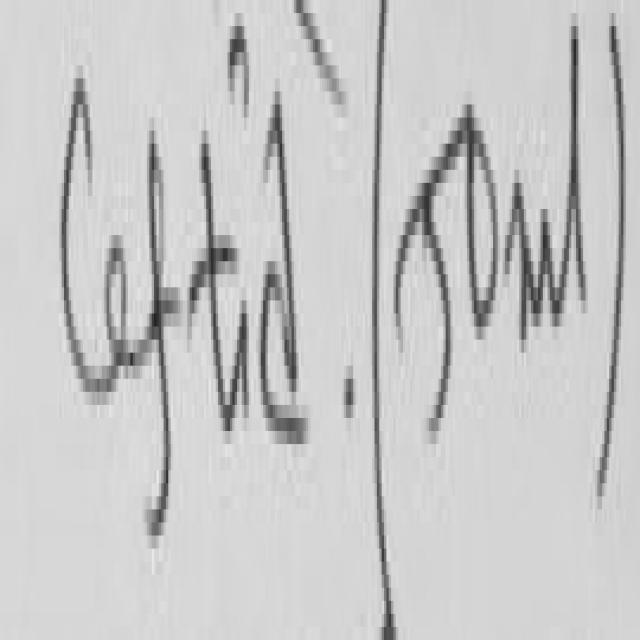0: (469, 104, 500, 327)
5: (397, 104, 460, 472)
C: (62, 78, 114, 392)
F: (140, 123, 177, 547)
d: (261, 91, 306, 438)
e: (102, 242, 150, 385)
i: (231, 292, 251, 428), (225, 21, 247, 127)
l: (552, 26, 588, 320)
m: (502, 161, 558, 344)
t: (192, 114, 237, 441)
